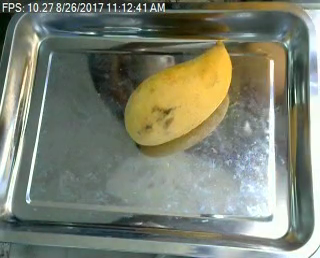Mango: (122, 45, 240, 148)
